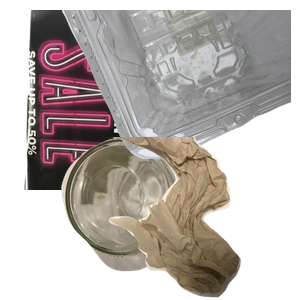glass: (59, 135, 254, 300)
paper: (22, 10, 225, 190)
plastic: (60, 10, 300, 162)
trash: (103, 137, 300, 300)
